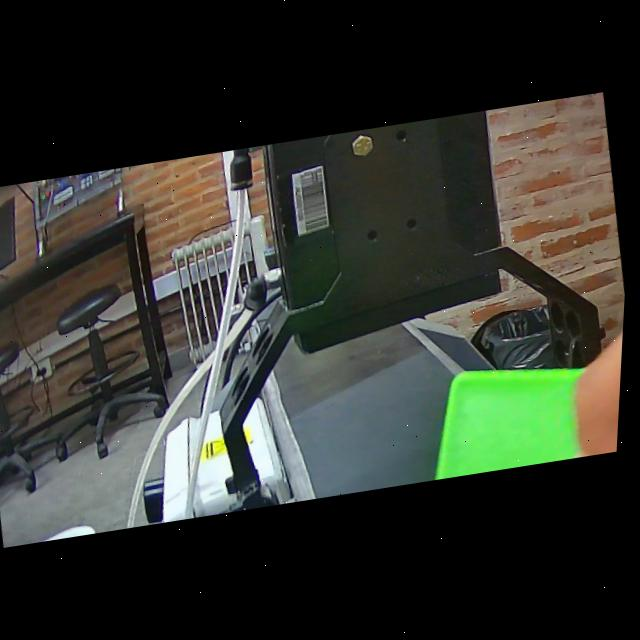greenBox: (393, 332, 626, 484)
